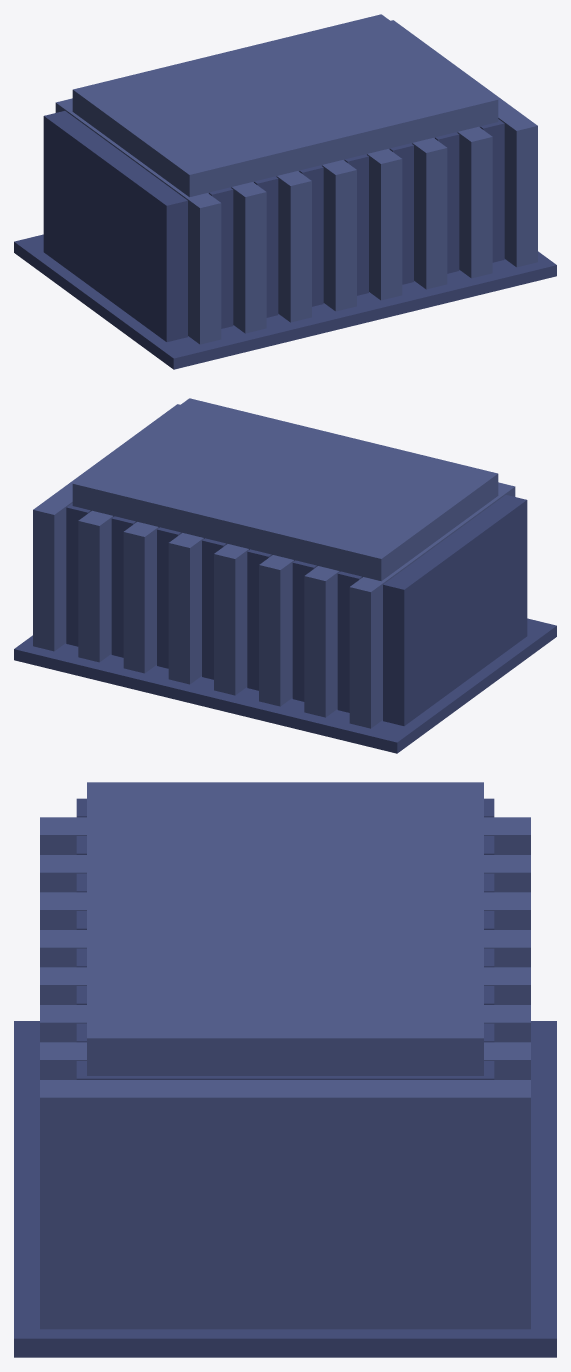
Rendered from escolar_saia.glb.
3 renders of one model, top to bottom at view 1: azimuth 30°, elevation 25°; view 2: azimuth 150°, elevation 25°; view 3: azimuth 270°, elevation 25°, orthographic. The views are drawn at different scales.
Parts seen in each view (by area): view 1: escolar_saia; view 2: escolar_saia; view 3: escolar_saia.
Part boxes in pixels (x1,y1,x2,y2): escolar_saia: (14, 14, 556, 369); escolar_saia: (14, 398, 556, 753); escolar_saia: (14, 782, 556, 1357).
Bounding box in the file's own units: 0.72 × 0.305 × 0.52.
